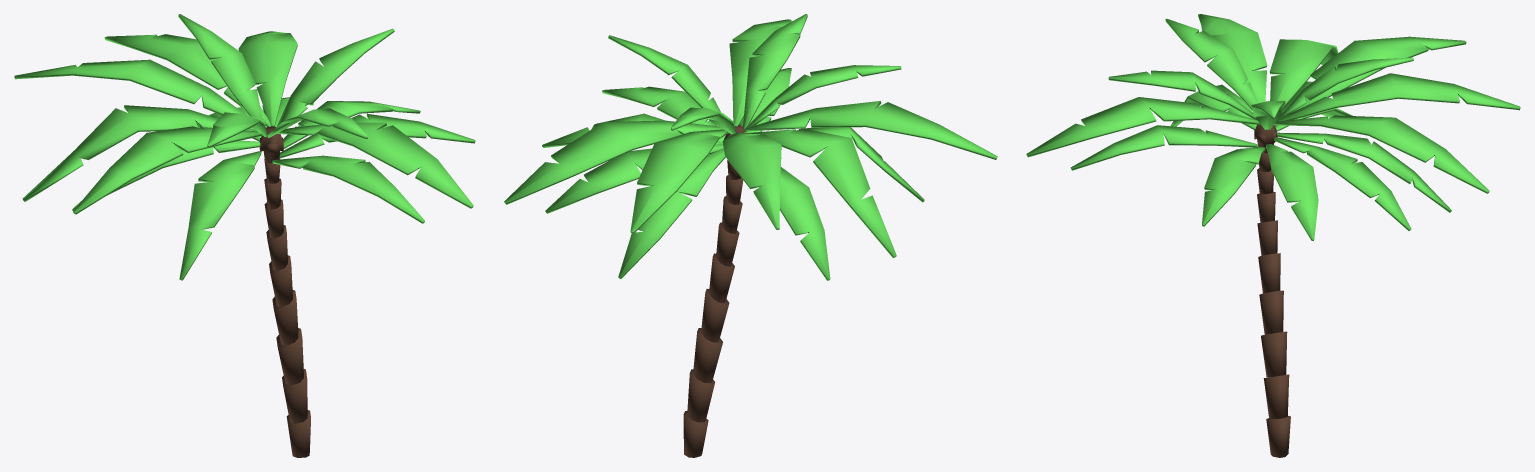
File: PalmTree_Medium1.fbx
3 views of the same model, side by side, from view 1: azimuth 30°, elevation 25°; view 2: azimuth 150°, elevation 25°; view 3: azimuth 270°, elevation 25° (orthographic). The views are drawn at different scales.
Parts seen in each view (by area): view 1: Leaves, Trunk.001; view 2: Leaves, Trunk.001; view 3: Leaves, Trunk.001.
Boxes of the visible parts, x1,y1,x2,y2 form: Leaves: (14,14,475,280); Trunk.001: (259,126,310,457); Leaves: (504,14,997,280); Trunk.001: (683,124,745,457); Leaves: (1026,14,1520,240); Trunk.001: (1254,124,1290,457).
Bounding box in the file's own units: 1046 × 997 × 1177.
